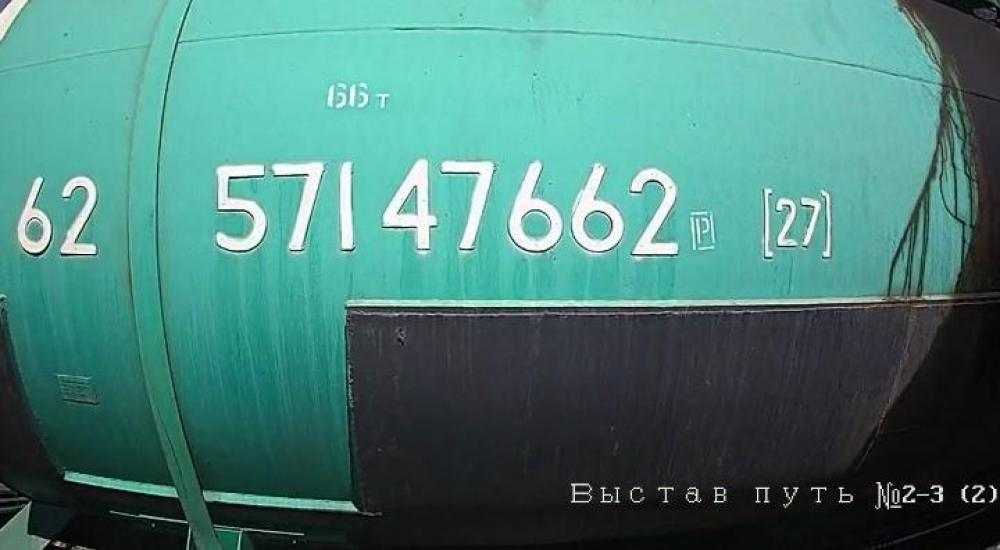Wagon-number: (215, 157, 682, 260)
